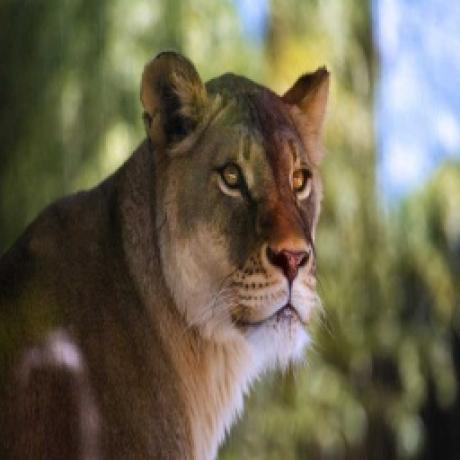Lion: (0, 47, 331, 458)
